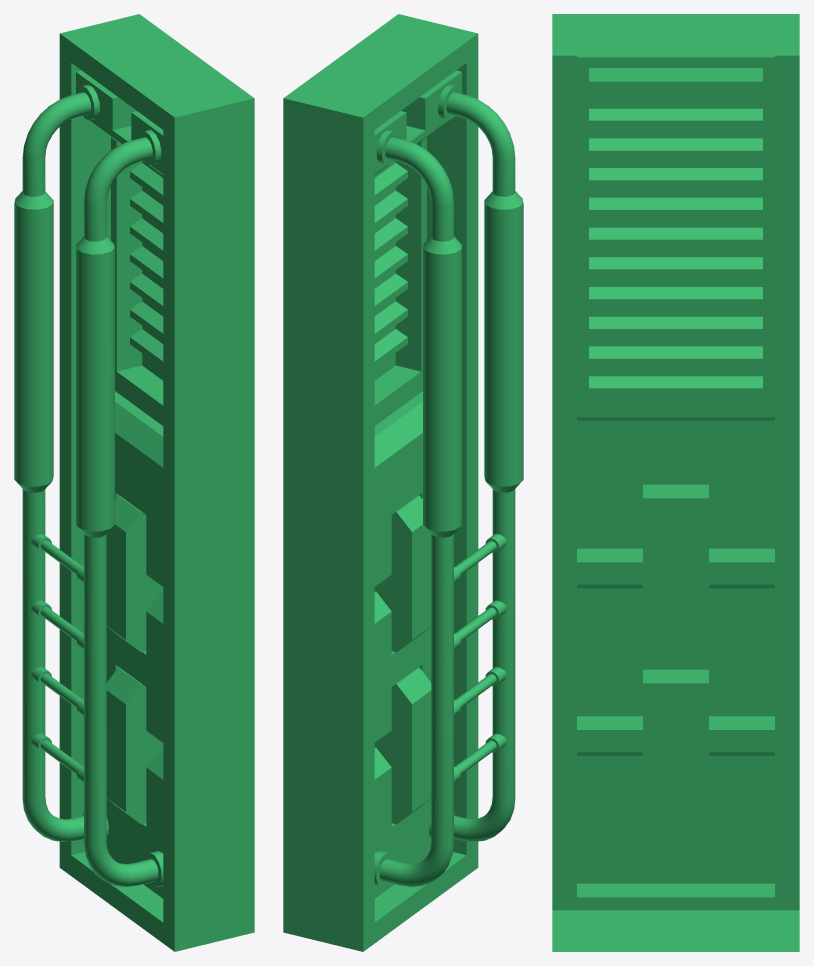
The model's file is Wall_B_4x1m.FBX.
3 views of the same model, side by side, from view 1: azimuth 30°, elevation 25°; view 2: azimuth 150°, elevation 25°; view 3: azimuth 270°, elevation 25° (orthographic). The views are drawn at different scales.
Parts seen in each view (by area): view 1: Wall_B_4x1m; view 2: Wall_B_4x1m; view 3: Wall_B_4x1m.
Boxes of the visible parts, x1=… form: Wall_B_4x1m: x1=14, y1=14, x2=254, y2=951; Wall_B_4x1m: x1=283, y1=14, x2=523, y2=951; Wall_B_4x1m: x1=552, y1=14, x2=799, y2=951.
Bounding box in the file's own units: 74.87 × 400 × 100.
